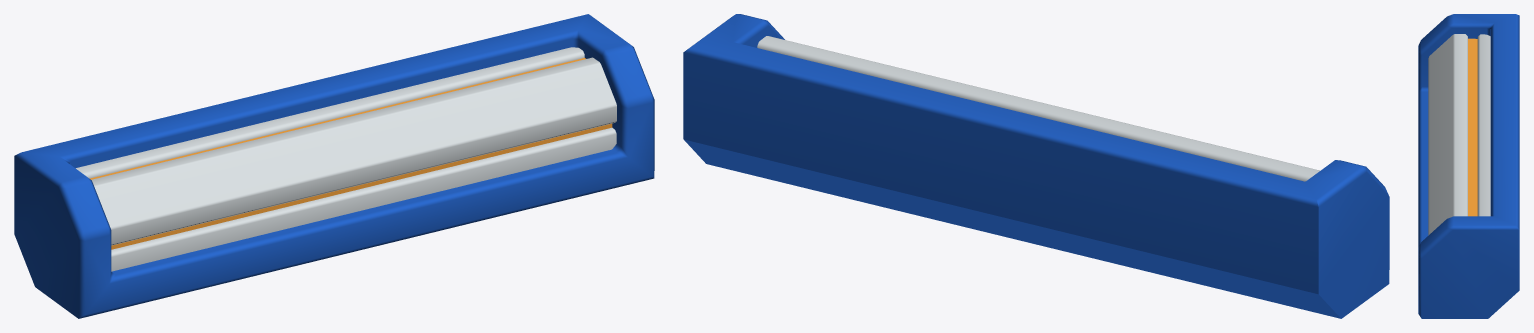
File: baseboard_001.fbx
The picture shows the model from 3 angles, left to right: view 1: azimuth 30°, elevation 25°; view 2: azimuth 150°, elevation 25°; view 3: azimuth 270°, elevation 25°; orthographic projection. The views are drawn at different scales.
Parts seen in each view (by area): view 1: baseboard_001; view 2: baseboard_001; view 3: baseboard_001.
Part boxes in pixels (x1,y1,x2,y2): baseboard_001: [14, 14, 654, 318]; baseboard_001: [683, 14, 1389, 318]; baseboard_001: [1418, 14, 1519, 318].
Size of the model in its own units: 1000 by 200 by 200.
